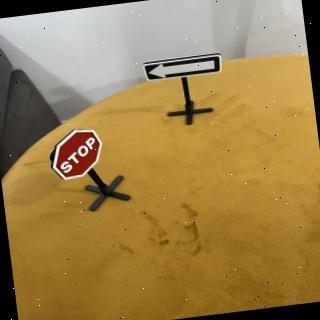sign_oneway_left: (143, 51, 227, 86)
sign_stop: (46, 124, 108, 183)
